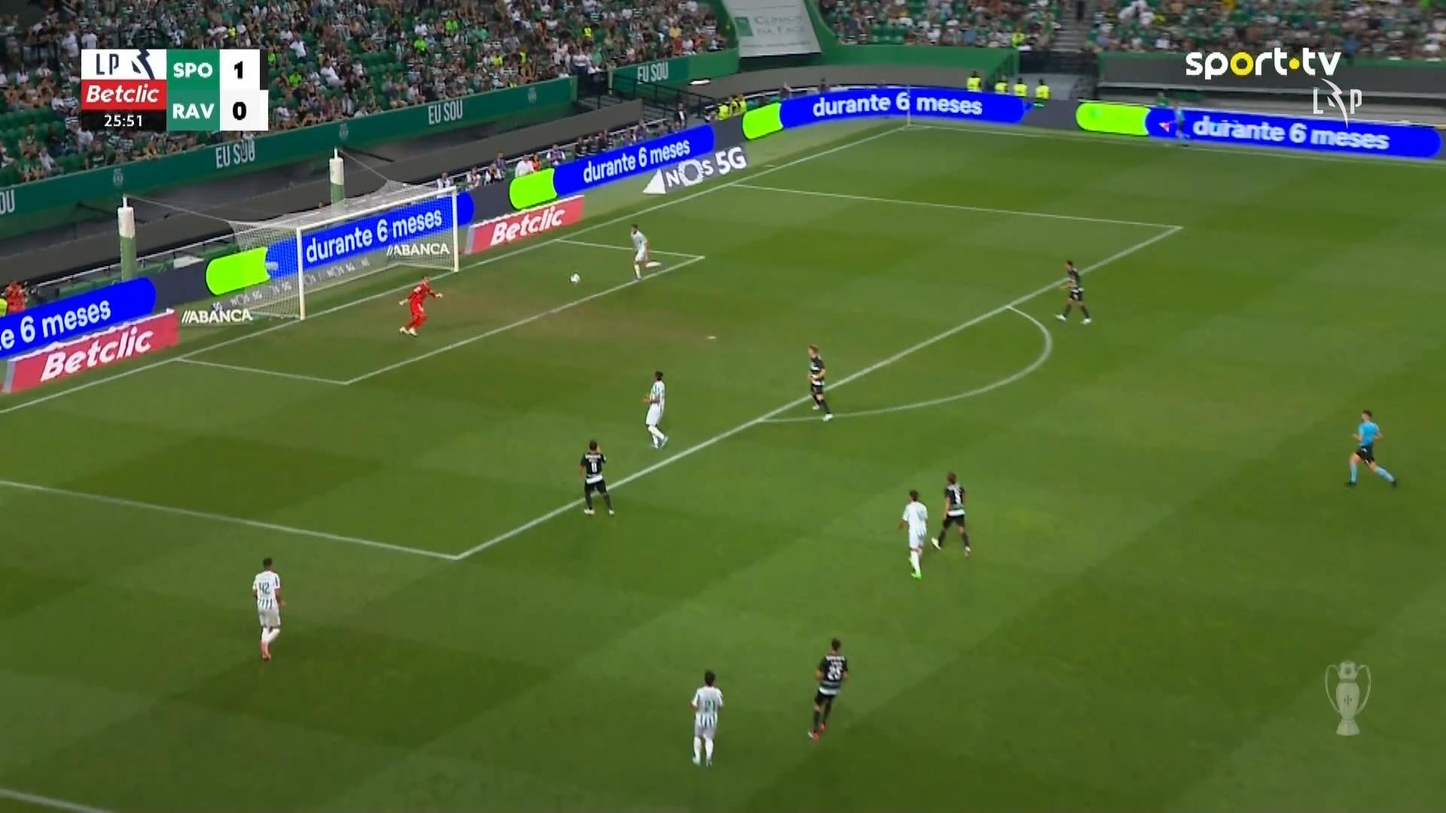ball: (569, 273, 579, 284)
goalkeeper: (397, 274, 443, 336)
player: (807, 637, 849, 740), (1344, 408, 1398, 488), (929, 470, 972, 556), (689, 669, 724, 768), (251, 556, 284, 660), (897, 488, 929, 579), (578, 439, 615, 516), (1054, 258, 1091, 324), (806, 343, 833, 421), (642, 370, 668, 449), (629, 222, 648, 281)
referee: (1160, 101, 1192, 148)
